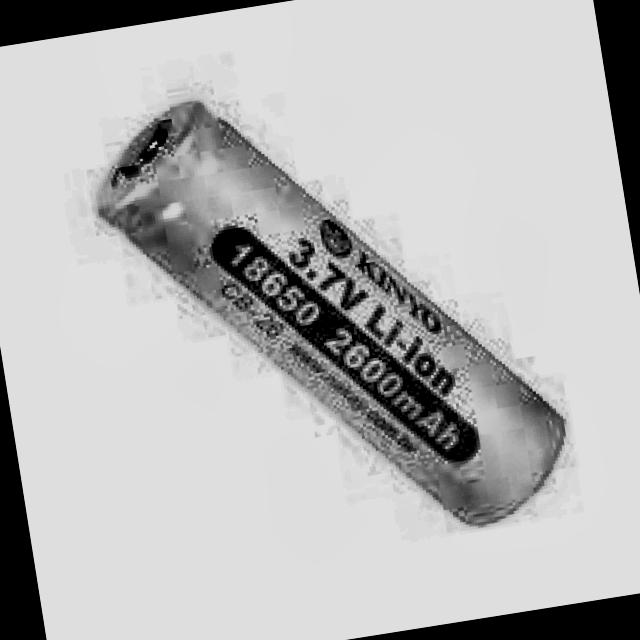Battery: (88, 57, 578, 573)
